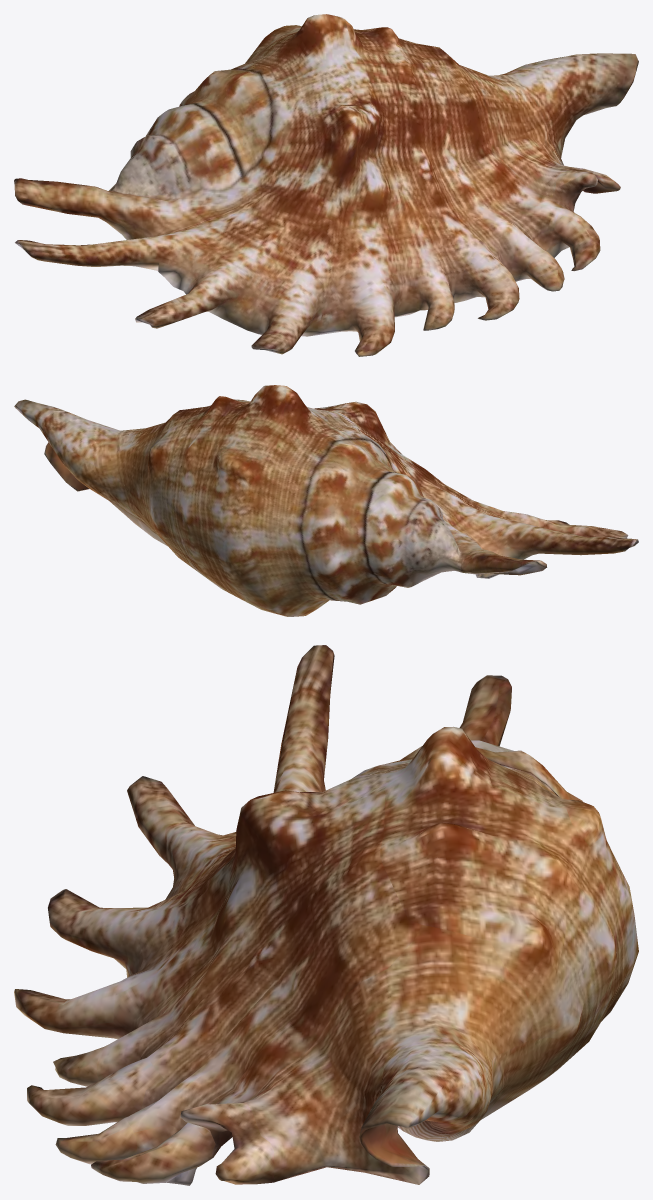
The model's file is lambis_shell.glb.
The picture shows the model from 3 angles, top to bottom: view 1: azimuth 30°, elevation 25°; view 2: azimuth 150°, elevation 25°; view 3: azimuth 270°, elevation 25°; orthographic projection. The views are drawn at different scales.
Visible parts, largest first — view 1: lambis_shell; view 2: lambis_shell; view 3: lambis_shell.
Part boxes in pixels (x1,y1,x2,y2): lambis_shell: (14, 14, 638, 356); lambis_shell: (14, 385, 638, 616); lambis_shell: (14, 645, 638, 1185).
Size of the model in its own units: 0.1395 by 0.0465 by 0.0744.
Materials: 1 (1 with a texture image).
